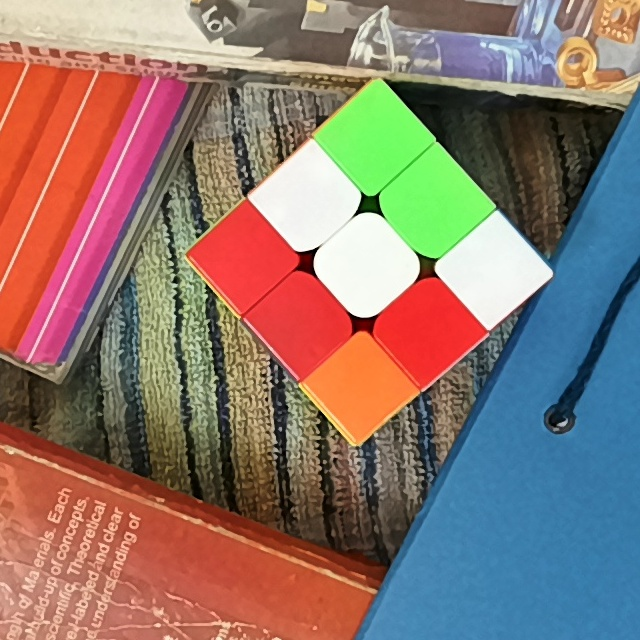tile: (338, 235, 397, 294), (344, 111, 403, 169), (403, 176, 462, 234), (280, 170, 339, 228), (399, 299, 455, 360), (464, 243, 521, 302), (216, 228, 273, 286), (330, 358, 387, 414), (274, 295, 327, 350)
